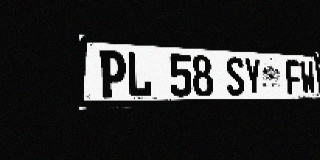5: (169, 54, 193, 97)
8: (192, 55, 214, 96)
F: (285, 60, 302, 95)
L: (126, 51, 152, 98)
P: (99, 50, 126, 98)
S: (225, 57, 245, 96)
W: (299, 61, 316, 94)
Y: (243, 58, 263, 95)
